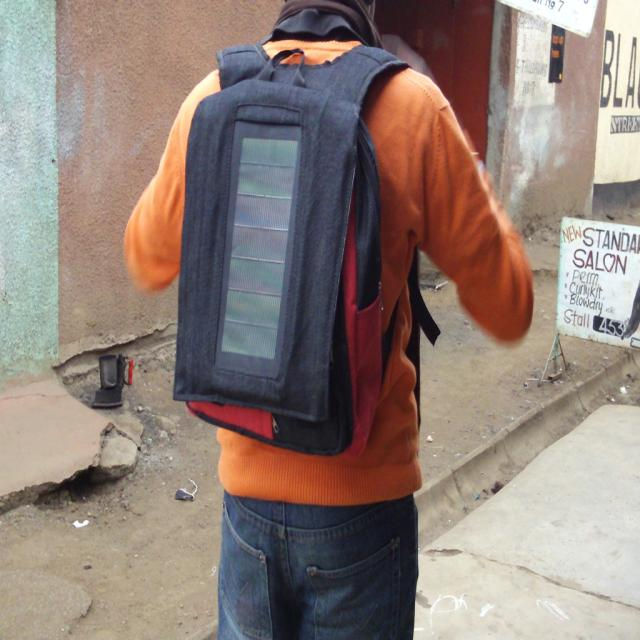backpack: (171, 41, 401, 459)
